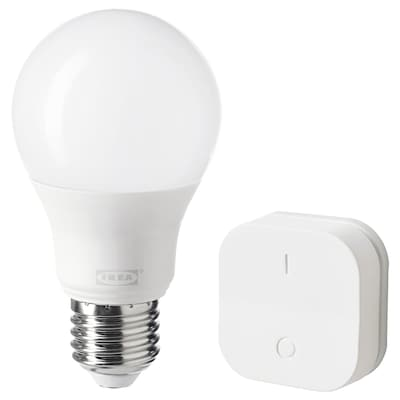Light_bulb: (7, 4, 226, 390)
